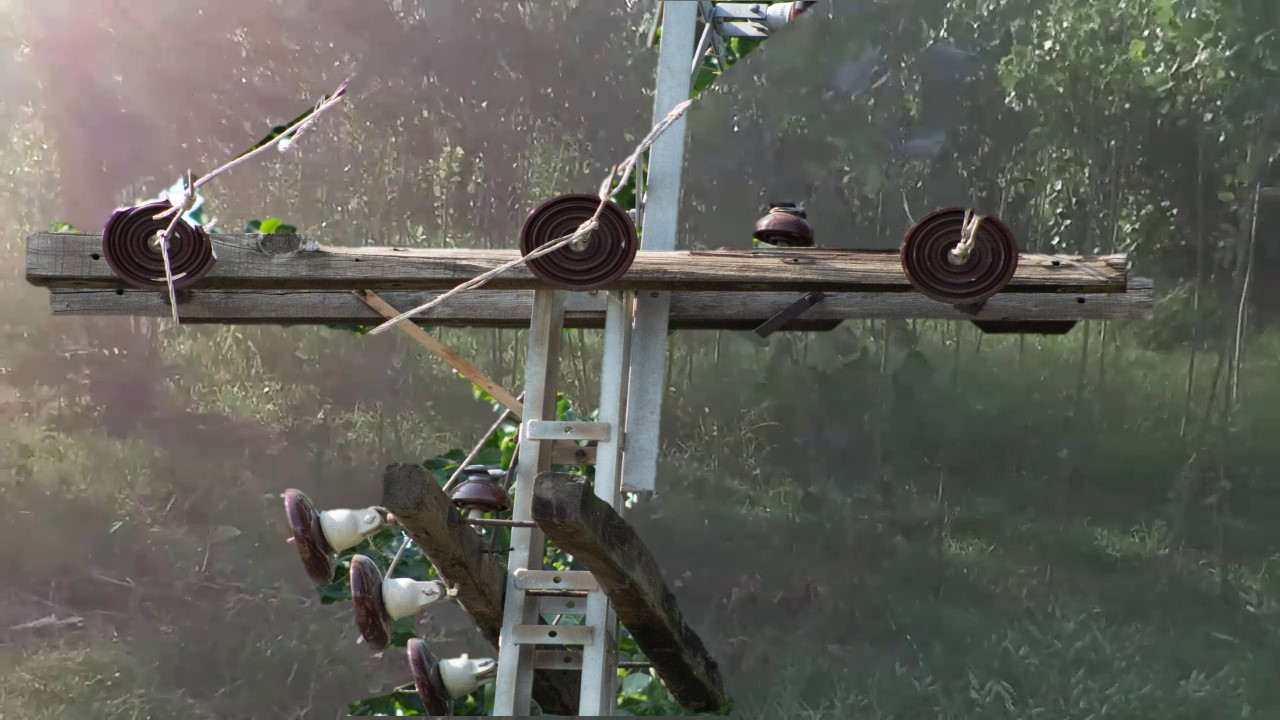defect_disc: (100, 192, 219, 298)
insulator_disc: (898, 204, 1023, 315), (517, 193, 639, 301), (278, 482, 343, 596), (395, 632, 480, 714), (345, 551, 408, 653)
insulator_pin: (446, 458, 510, 523), (752, 194, 821, 252)
